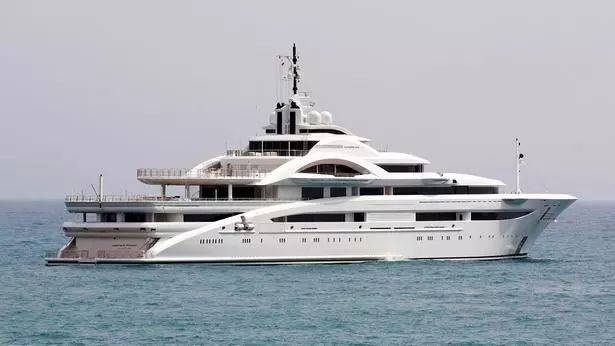yacht: (45, 38, 580, 267)
